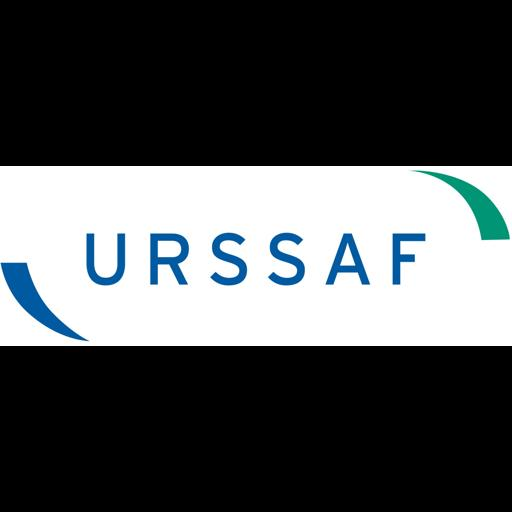URSSAF: (0, 166, 512, 346)
